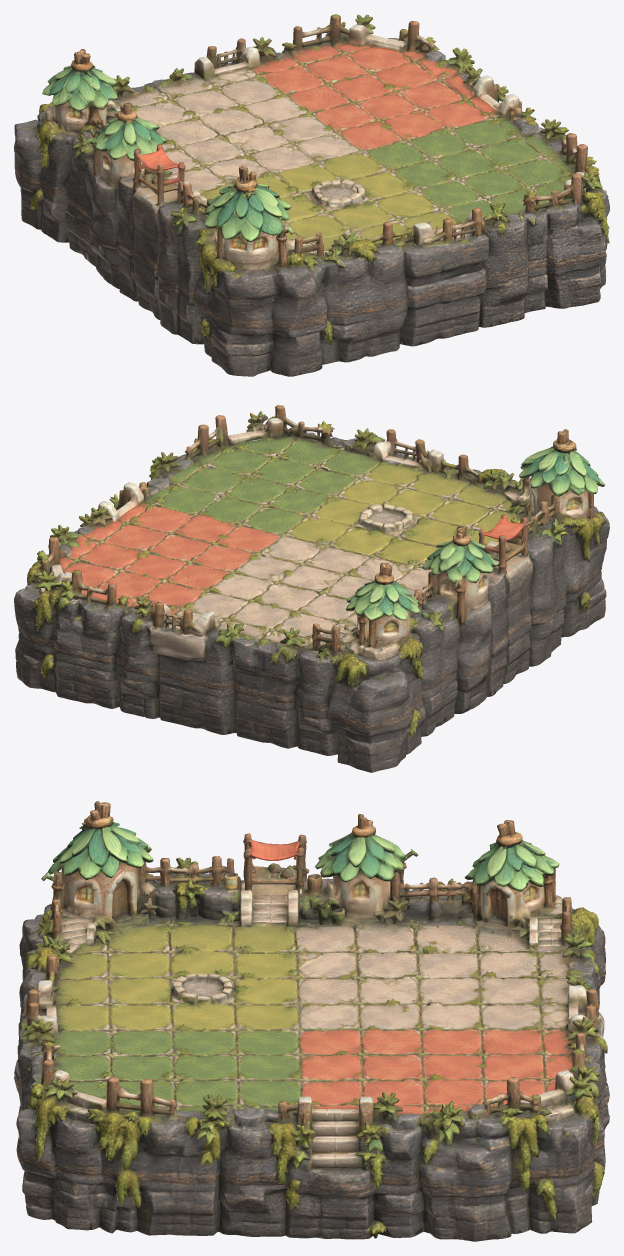
The model's file is world-8x8.glb.
3 views of the same model, one above another, from view 1: azimuth 30°, elevation 25°; view 2: azimuth 150°, elevation 25°; view 3: azimuth 270°, elevation 25° (orthographic). The views are drawn at different scales.
Parts seen in each view (by area): view 1: tripo_node_eb9d2001-6929-4b94-b2ae-f6ac407bb804; view 2: tripo_node_eb9d2001-6929-4b94-b2ae-f6ac407bb804; view 3: tripo_node_eb9d2001-6929-4b94-b2ae-f6ac407bb804.
Part boxes in pixels (left/top/right/bottom): tripo_node_eb9d2001-6929-4b94-b2ae-f6ac407bb804: left=14, top=14, right=609, bottom=376; tripo_node_eb9d2001-6929-4b94-b2ae-f6ac407bb804: left=14, top=405, right=609, bottom=772; tripo_node_eb9d2001-6929-4b94-b2ae-f6ac407bb804: left=14, top=801, right=609, bottom=1241.
Bounding box in the file's own units: 0.9406 × 0.4104 × 0.9801.
1 material, 1 textured.
